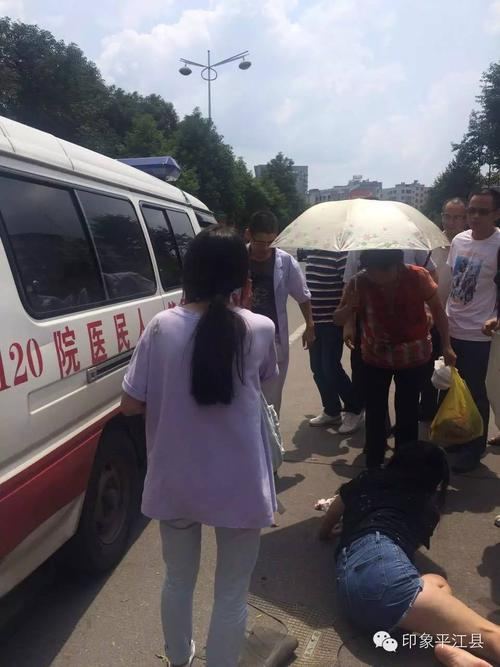fall: (305, 435, 500, 665)
